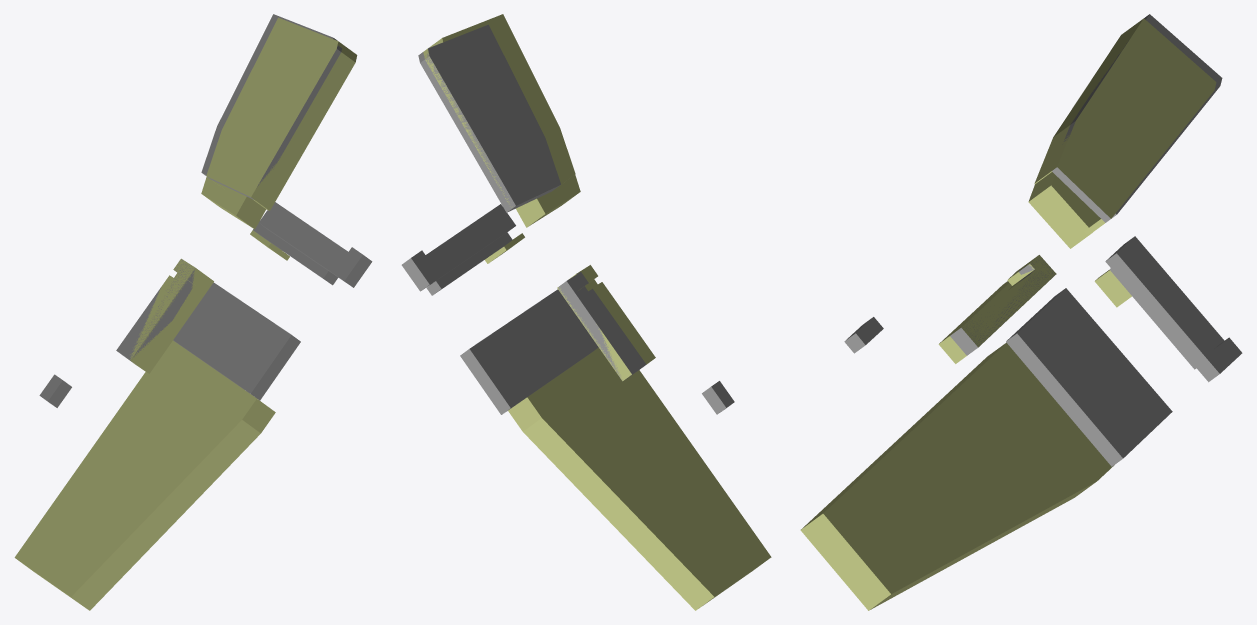
3 views of the same model, side by side, from view 1: azimuth 30°, elevation 25°; view 2: azimuth 150°, elevation 25°; view 3: azimuth 330°, elevation 25° (orthographic). The views are drawn at different scales.
Visible parts, largest first — view 1: 0_1_2_0_3_3_1_2; view 2: 0_1_2_0_3_3_1_2; view 3: 0_1_2_0_3_3_1_2.
Boxes of the visible parts, x1,y1,x2,y2 form: 0_1_2_0_3_3_1_2: (14, 14, 372, 610); 0_1_2_0_3_3_1_2: (401, 14, 771, 610); 0_1_2_0_3_3_1_2: (800, 14, 1242, 610).
Size of the model in its own units: 63.87 by 92.51 by 8.03.
